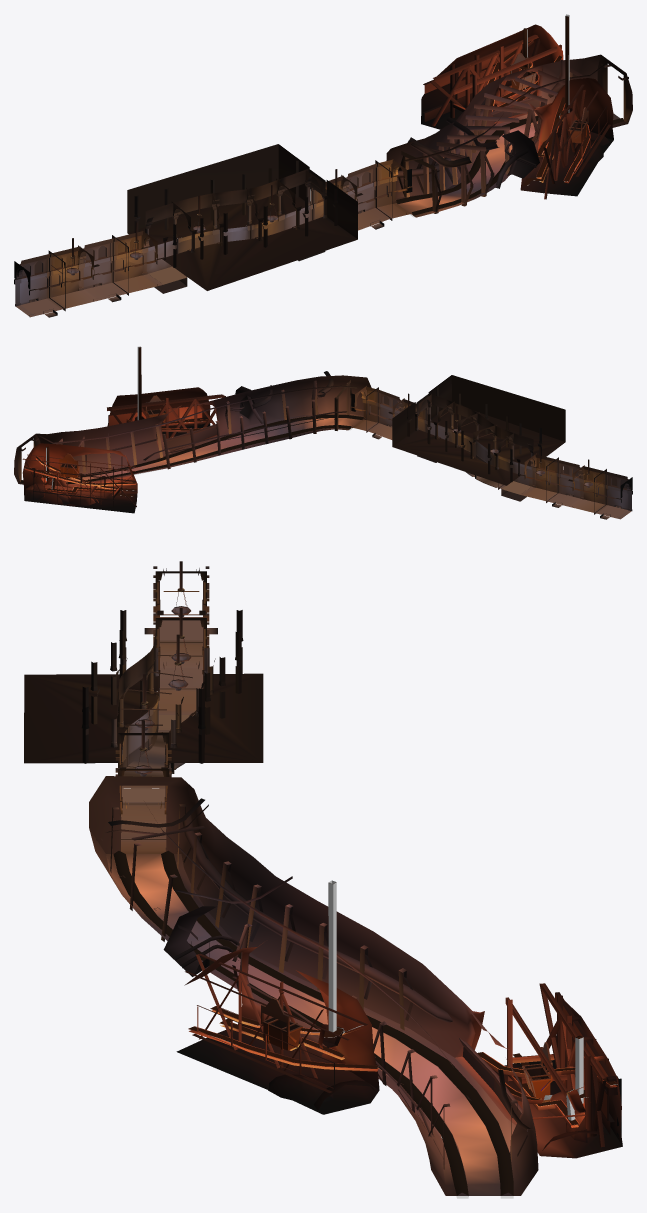
3 views of the same model, one above another, from view 1: azimuth 30°, elevation 25°; view 2: azimuth 150°, elevation 25°; view 3: azimuth 270°, elevation 25° (orthographic). The views are drawn at different scales.
Parts seen in each view (by area): view 1: stg030_o19_Mesh_21, stg030_o20_Mesh_21, stg030_o19_Mesh_28, stg030_o19_Mesh_6, stg030_g20_Mesh_1, stg030_o19_Mesh_26, stg030_o19_Mesh_32, stg030_o19_Mesh_23, stg030_o20_Mesh_20, stg030_o19_Mesh_29, stg030_o19_Mesh_4, stg030_o19_Mesh_19 (+12 smaller); view 2: stg030_o20_Mesh_21, stg030_o19_Mesh_6, stg030_o19_Mesh_21, stg030_o19_Mesh_28, stg030_g20_Mesh_1, stg030_o20_Mesh_22, stg030_o19_Mesh_26, stg030_o20_Mesh_20, stg030_o19_Mesh_32, stg030_o19_Mesh_23, stg030_o19_Mesh_29, stg030_o19_Mesh_4 (+13 smaller); view 3: stg030_o20_Mesh_21, stg030_o19_Mesh_21, stg030_o19_Mesh_28, stg030_o20_Mesh_22, stg030_g20_Mesh_1, stg030_o19_Mesh_26, stg030_o20_Mesh_20, stg030_o19_Mesh_32, stg030_steelflow_20_Mesh_1, stg030_o19_Mesh_31, stg030_o19_Mesh_24, stg030_o19_Mesh_29 (+3 smaller).
Boxes of the visible parts, left/top/right/bottom form: stg030_o19_Mesh_21: left=46, top=34, right=598, bottom=311; stg030_o20_Mesh_21: left=386, top=24, right=632, bottom=217; stg030_o19_Mesh_28: left=19, top=160, right=391, bottom=290; stg030_o19_Mesh_6: left=14, top=144, right=411, bottom=315; stg030_g20_Mesh_1: left=396, top=16, right=623, bottom=215; stg030_o19_Mesh_26: left=31, top=94, right=613, bottom=300; stg030_o19_Mesh_32: left=22, top=204, right=406, bottom=315; stg030_o19_Mesh_23: left=17, top=165, right=399, bottom=313; stg030_o20_Mesh_20: left=397, top=59, right=606, bottom=188; stg030_o19_Mesh_29: left=20, top=165, right=407, bottom=315; stg030_o19_Mesh_4: left=15, top=159, right=410, bottom=316; stg030_o19_Mesh_19: left=14, top=175, right=411, bottom=295; stg030_o20_Mesh_21: left=14, top=375, right=371, bottom=505; stg030_o19_Mesh_6: left=351, top=375, right=632, bottom=517; stg030_o19_Mesh_21: left=22, top=380, right=608, bottom=514; stg030_o19_Mesh_28: left=367, top=387, right=628, bottom=487; stg030_g20_Mesh_1: left=20, top=347, right=363, bottom=496; stg030_o20_Mesh_22: left=44, top=418, right=361, bottom=484; stg030_o19_Mesh_26: left=24, top=407, right=579, bottom=513; stg030_o20_Mesh_20: left=38, top=371, right=356, bottom=460; stg030_o19_Mesh_32: left=355, top=420, right=626, bottom=518; stg030_o19_Mesh_23: left=360, top=391, right=630, bottom=516; stg030_o19_Mesh_29: left=354, top=390, right=627, bottom=518; stg030_o19_Mesh_4: left=352, top=386, right=632, bottom=517; stg030_o20_Mesh_21: left=89, top=776, right=622, bottom=1195; stg030_o19_Mesh_21: left=96, top=571, right=621, bottom=1169; stg030_o19_Mesh_28: left=24, top=610, right=263, bottom=763; stg030_o20_Mesh_22: left=126, top=854, right=585, bottom=1195; stg030_g20_Mesh_1: left=113, top=850, right=617, bottom=1195; stg030_o19_Mesh_26: left=176, top=1029, right=622, bottom=1158; stg030_o20_Mesh_20: left=106, top=798, right=530, bottom=1130; stg030_o19_Mesh_32: left=121, top=621, right=202, bottom=851; stg030_steelflow_20_Mesh_1: left=212, top=880, right=617, bottom=1198; stg030_o19_Mesh_31: left=120, top=599, right=608, bottom=1120; stg030_o19_Mesh_24: left=122, top=727, right=618, bottom=1134; stg030_o19_Mesh_29: left=115, top=566, right=209, bottom=842.
Bounding box in the file's own units: 161 × 35.75 × 79.34.
